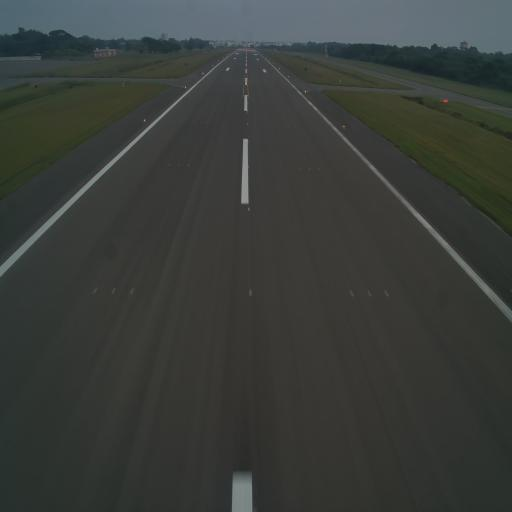off: (381, 286, 391, 300), (348, 286, 356, 302), (365, 286, 374, 300), (90, 285, 100, 297), (127, 284, 135, 298), (110, 285, 118, 296), (308, 164, 312, 172), (168, 161, 172, 168), (177, 162, 181, 169), (316, 166, 320, 172), (187, 162, 190, 169), (299, 165, 302, 171)
on: (248, 286, 254, 299), (341, 122, 347, 130), (143, 116, 147, 125), (248, 205, 251, 214), (247, 163, 250, 169), (247, 138, 249, 144)
